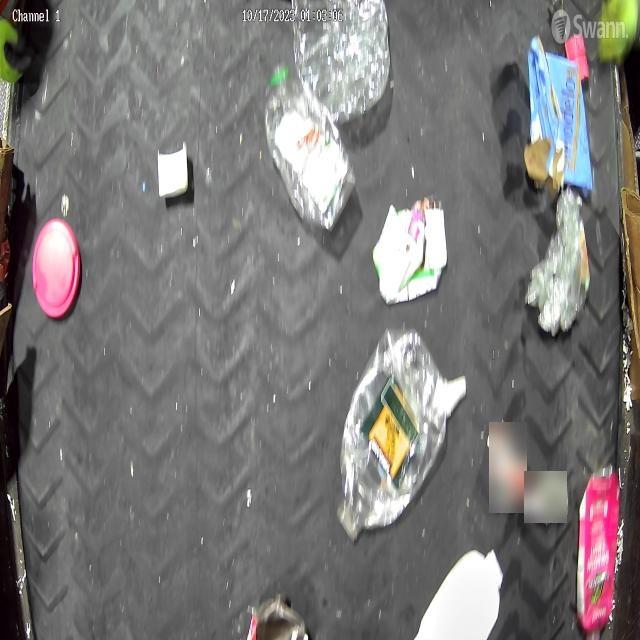milk_jug: (417, 547, 504, 640)
plastic_bottle: (337, 331, 451, 538), (265, 65, 353, 232)
